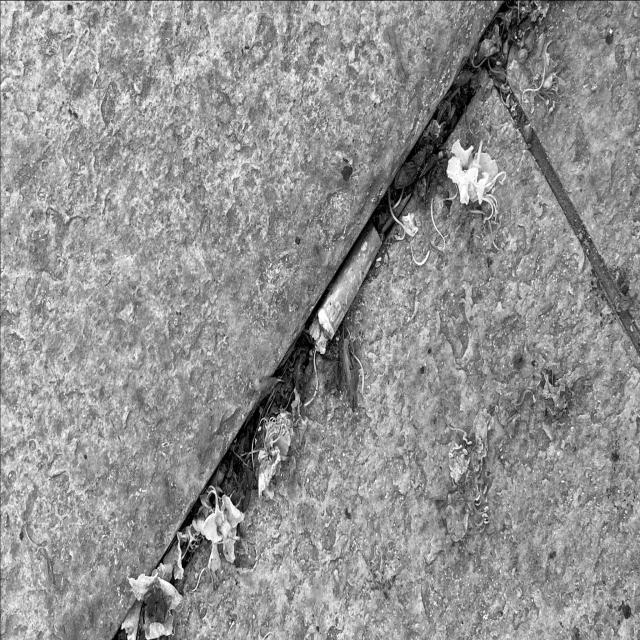other waste: (308, 218, 382, 354)
